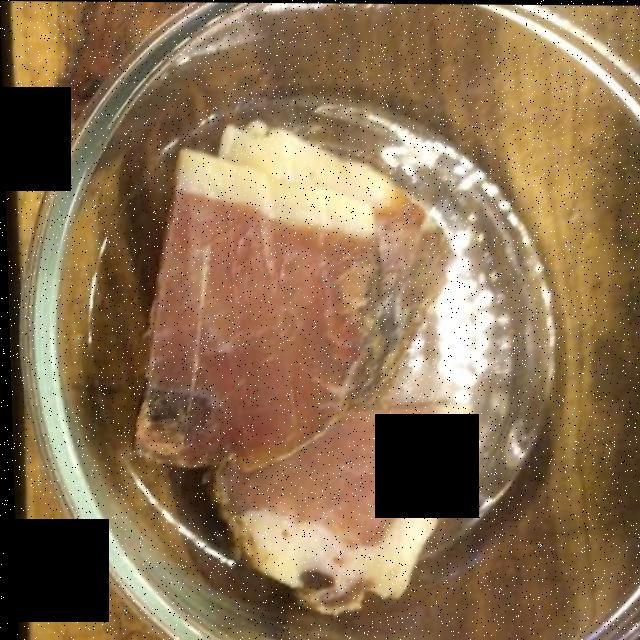ham: (91, 111, 462, 602)
